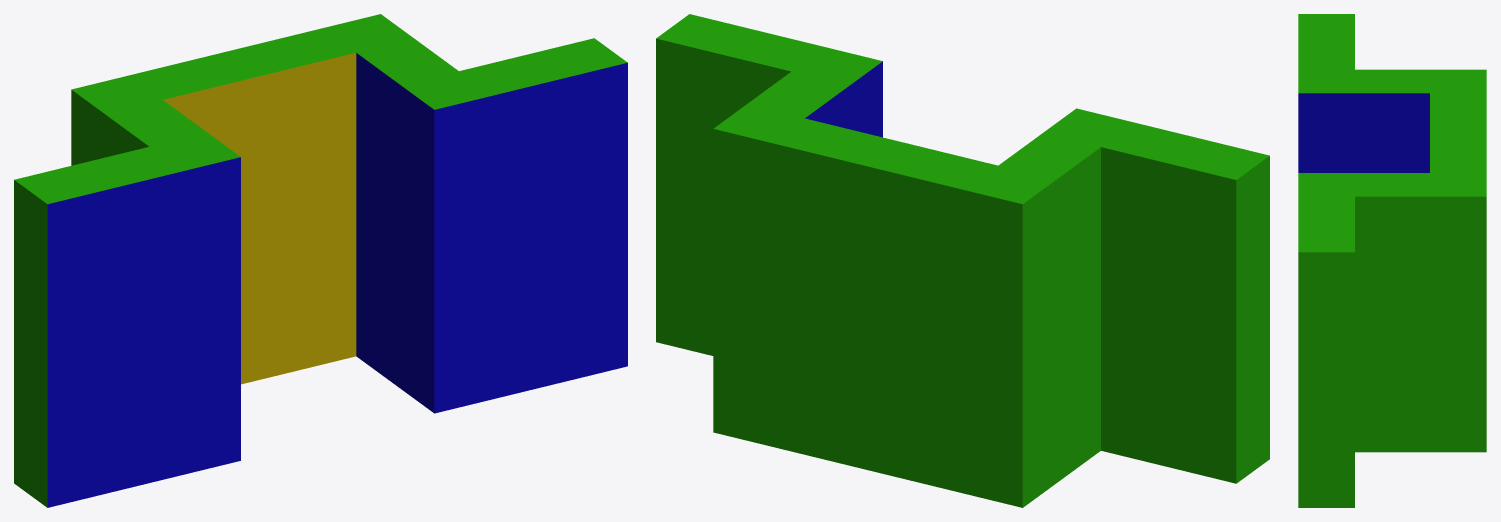
The model's file is octagon_wall_alcoves_2_correct-dims_join_reset-scale_join_seven-thirds-depth.fbx.
3 renders of one model, left to right at view 1: azimuth 30°, elevation 25°; view 2: azimuth 150°, elevation 25°; view 3: azimuth 270°, elevation 25°, orthographic. The views are drawn at different scales.
Parts seen in each view (by area): view 1: Cube.002; view 2: Cube.002; view 3: Cube.002.
Boxes of the visible parts, x1,y1,x2,y2 form: Cube.002: (14, 14, 627, 507); Cube.002: (656, 14, 1269, 507); Cube.002: (1298, 14, 1486, 507).
Size of the model in its own units: 10 by 5 by 3.33.
